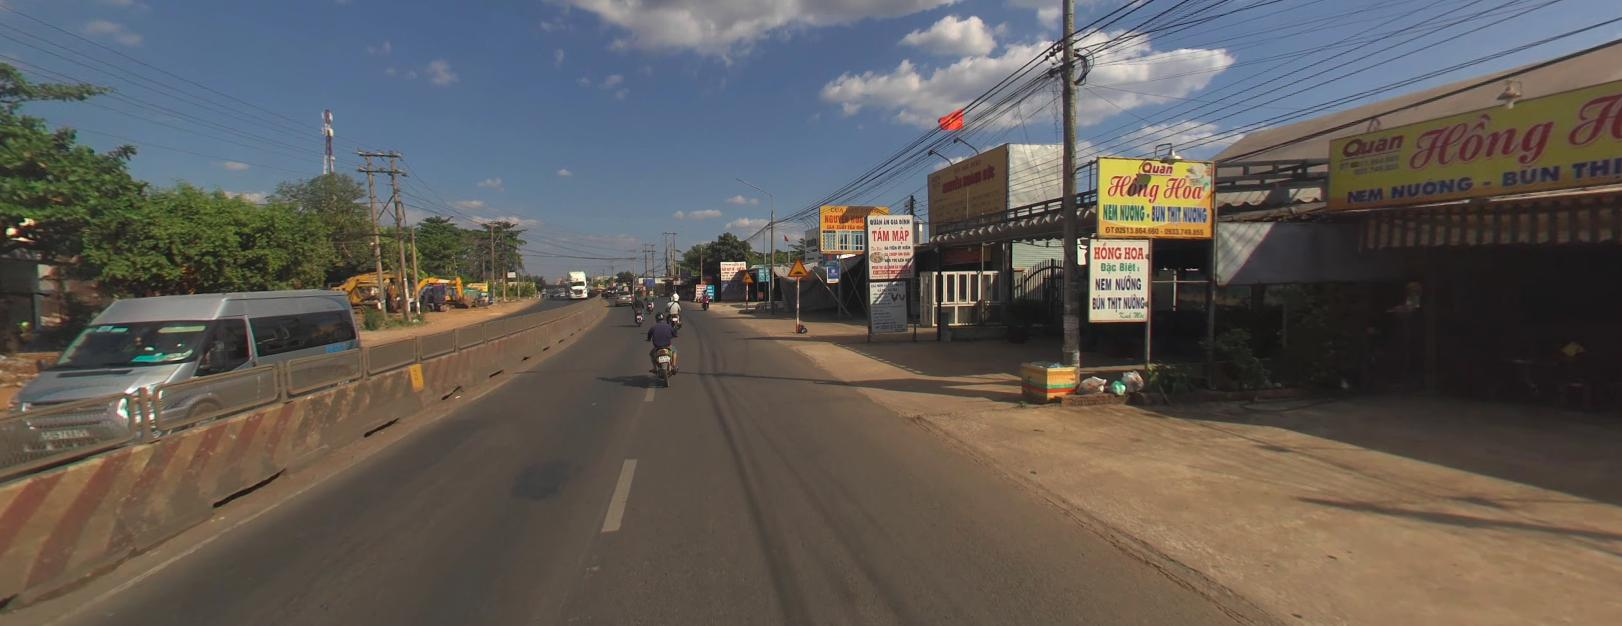Nguy hiem: (787, 255, 810, 275), (787, 255, 809, 275), (786, 256, 809, 275), (787, 257, 808, 275), (740, 270, 754, 282), (740, 268, 752, 281), (741, 270, 752, 281), (741, 270, 752, 280)
